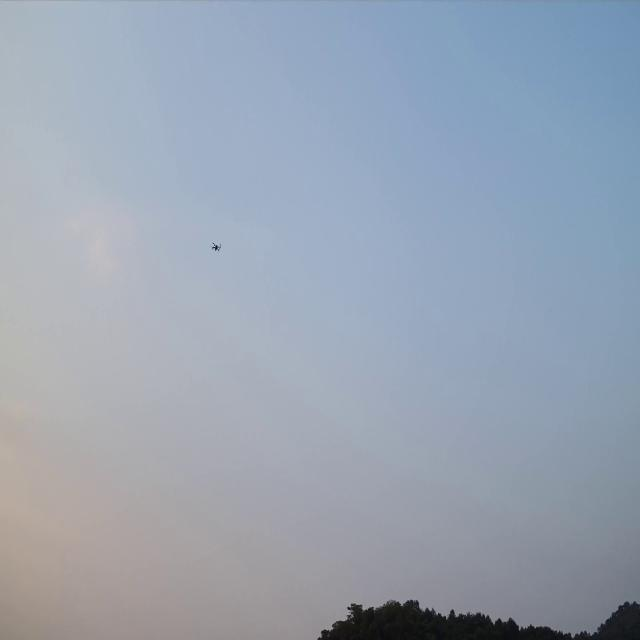UAV: (210, 240, 222, 252)
